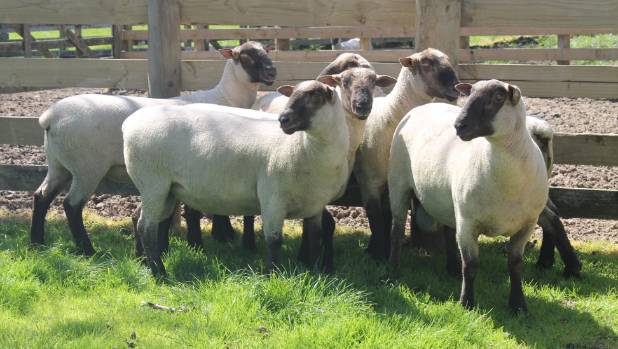sheep: (37, 29, 278, 223), (141, 81, 349, 276), (393, 76, 538, 291), (349, 40, 417, 237), (317, 54, 361, 223)
